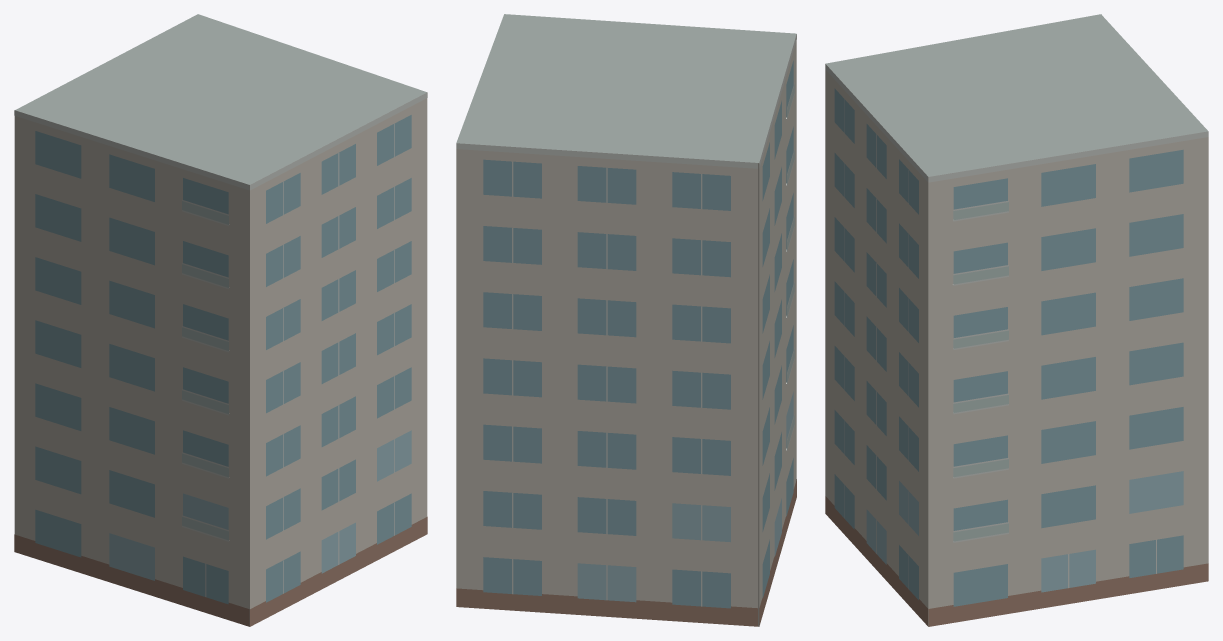
The model's file is survey-upis-32843246.glb.
3 views of the same model, side by side, from view 1: azimuth 30°, elevation 25°; view 2: azimuth 150°, elevation 25°; view 3: azimuth 270°, elevation 25° (orthographic). The views are drawn at different scales.
Parts seen in each view (by area): view 1: survey-upis-32843246.tmp; view 2: survey-upis-32843246.tmp; view 3: survey-upis-32843246.tmp.
Boxes of the visible parts, bbox=[...] form: survey-upis-32843246.tmp: bbox=[14, 14, 427, 626]; survey-upis-32843246.tmp: bbox=[456, 14, 796, 626]; survey-upis-32843246.tmp: bbox=[825, 14, 1208, 626].
Size of the model in its own units: 15.08 by 19.4 by 14.99.
